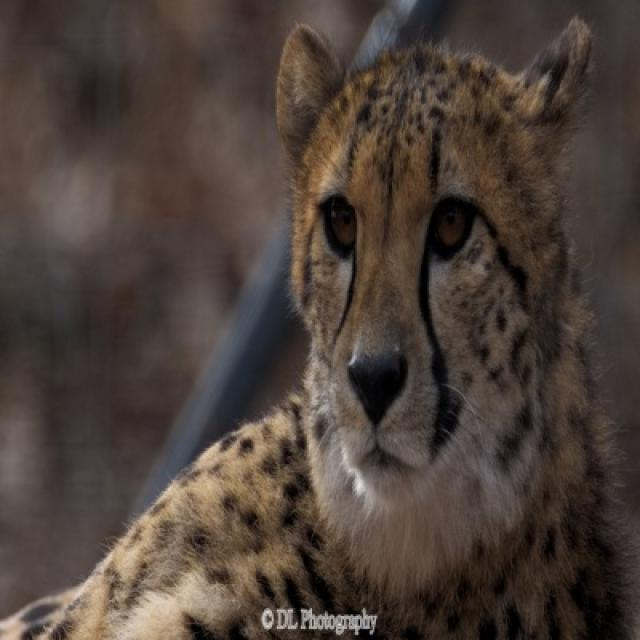Cheetah: (0, 16, 637, 638)
